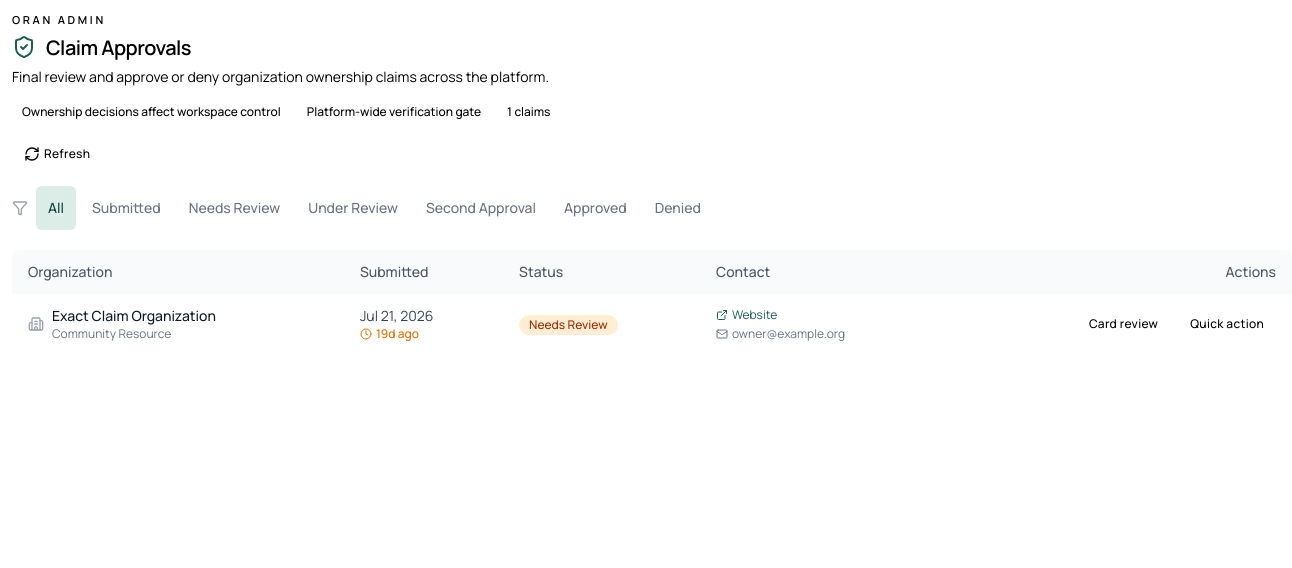
Test: organization claim review states › exposes needs-review and second-approval claims as actionable
Check: the text "Exact Claim Organization" is shown, box [52,306,216,326]
Check: the tab "Needs Review" is shown, box [177,186,292,230]
What coordinates should you click on to do the following:
click the button "Quick action"
I would click on:
 (1227, 324)
Its box is [1178,308,1276,340].
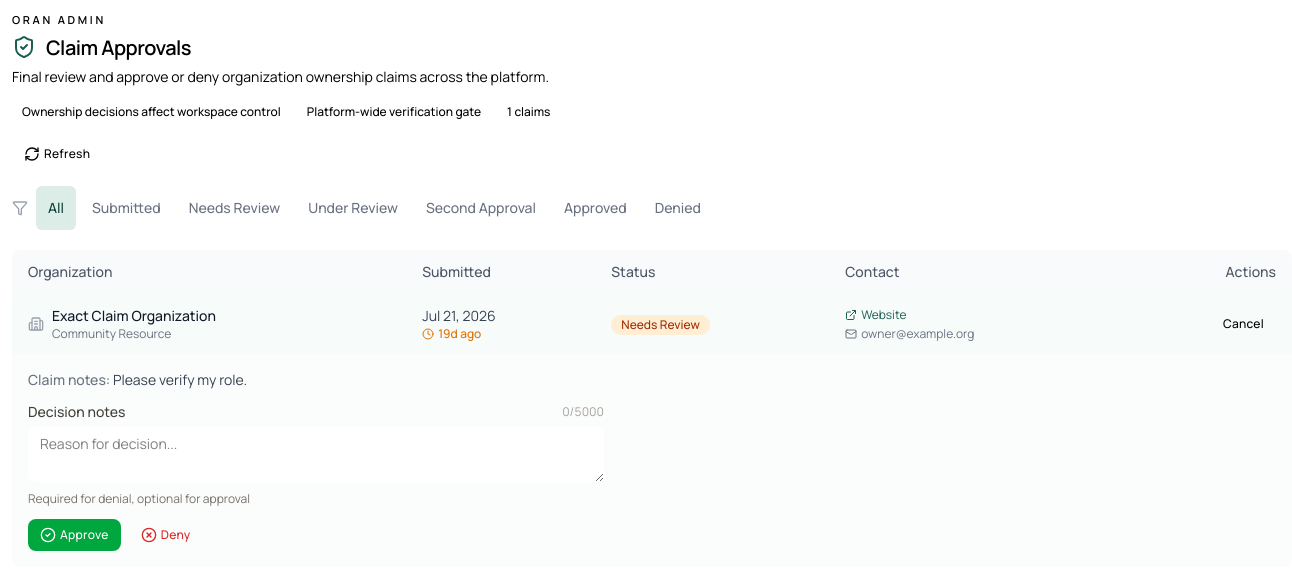
What coordinates should you click on to do the following:
click the button "Approve"
I would click on:
 (74, 535)
Its box is [28,519,121,551].
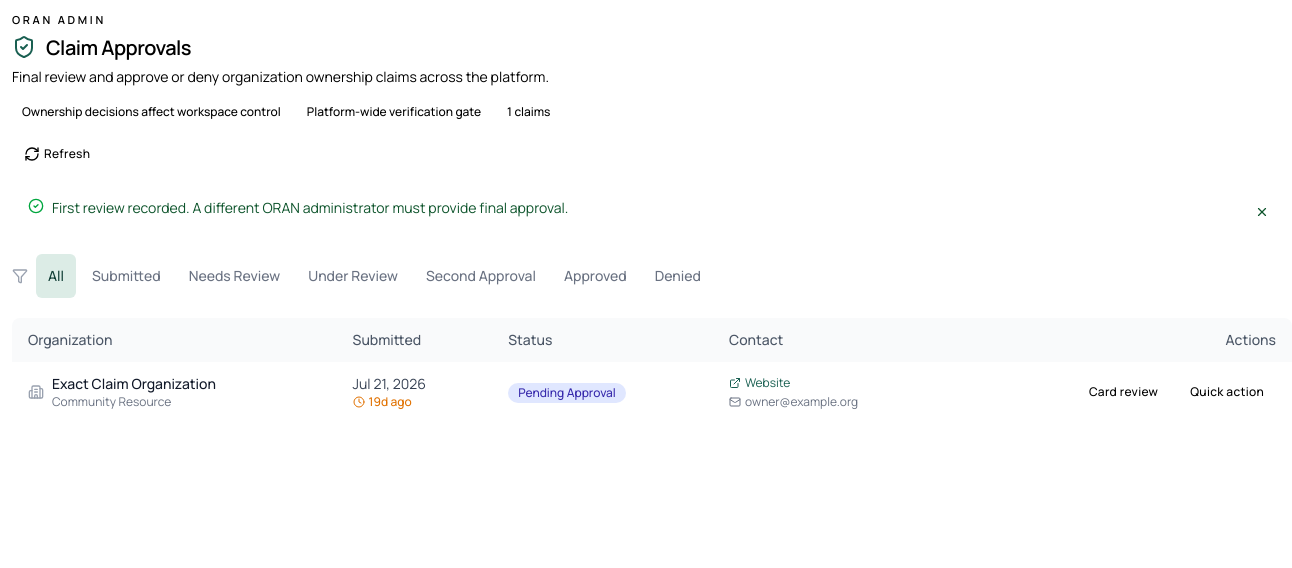
Check: the message shows "A different ORAN administrator", box [52,198,568,217]
Check: the button "Quick action" is shown, box [1178,376,1276,408]
